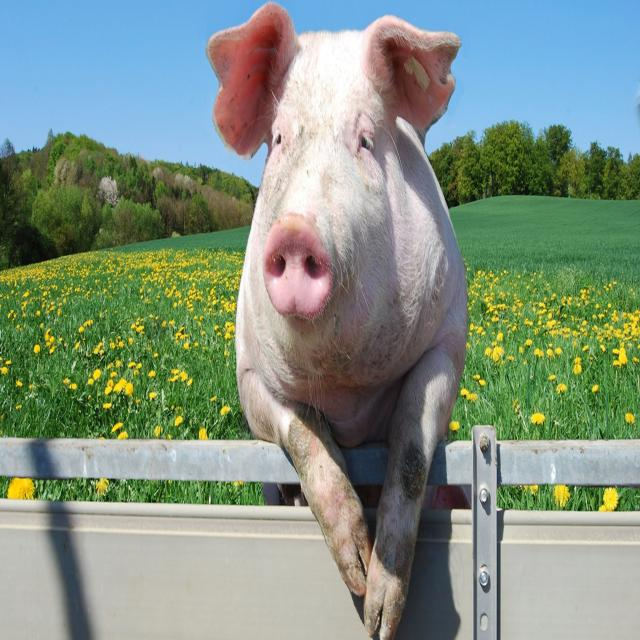pig: (206, 4, 467, 640)
